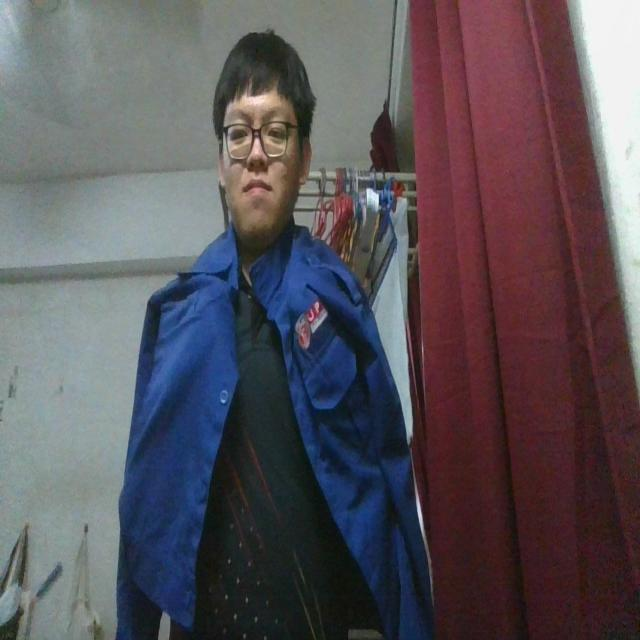person_without_labcoat: (117, 32, 432, 639)
